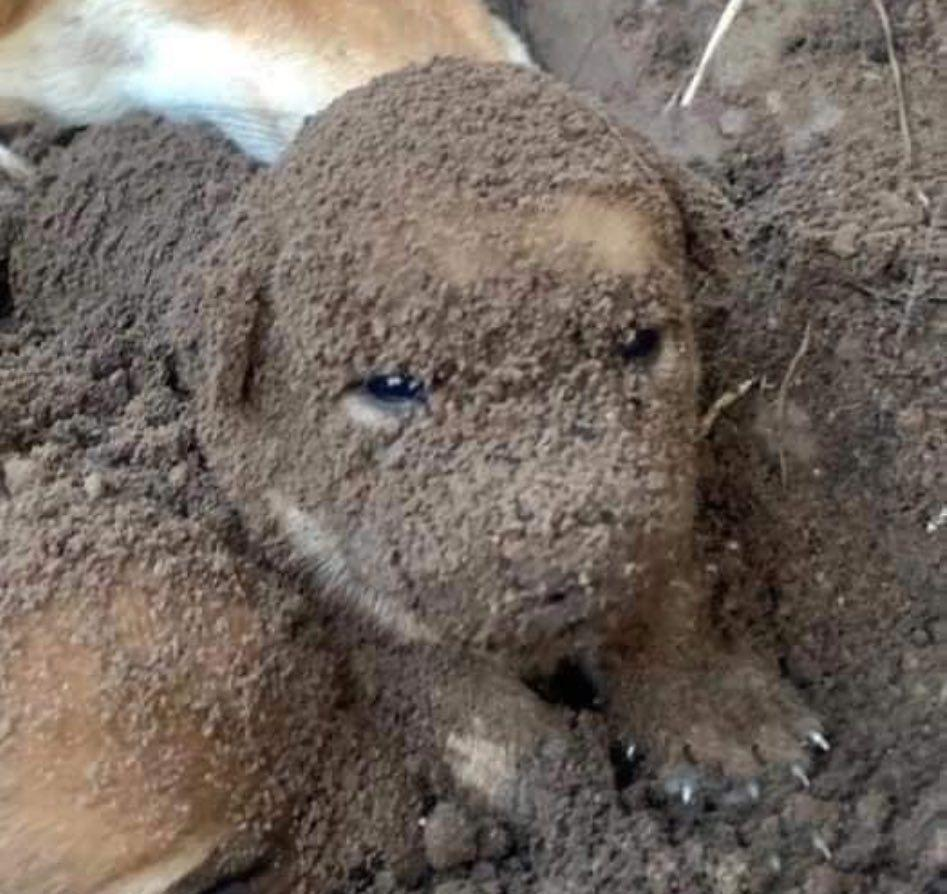puppy-dog: (0, 60, 838, 894)
